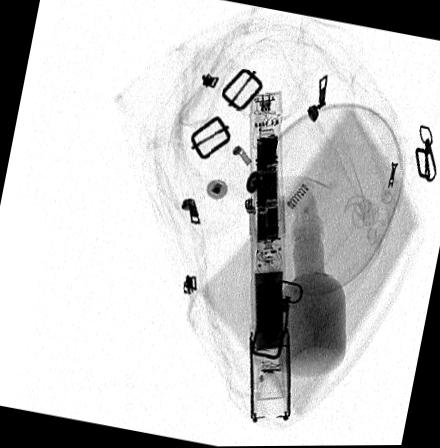Baton: (249, 90, 291, 421)
